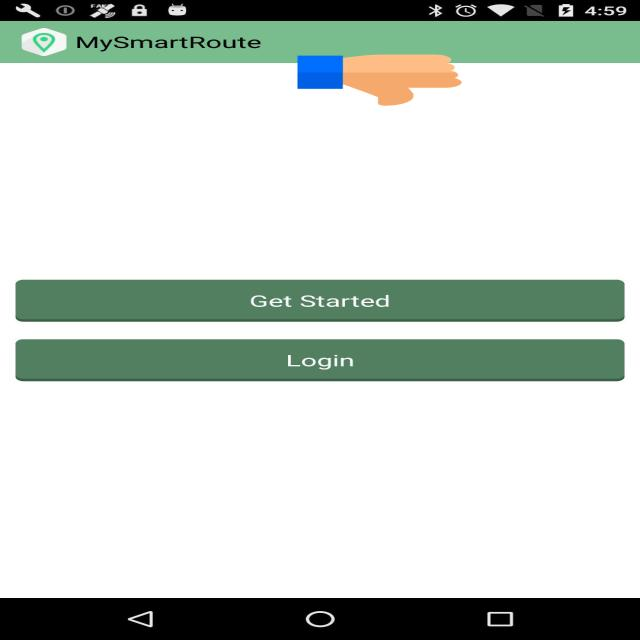obstruction: (298, 53, 462, 107)
